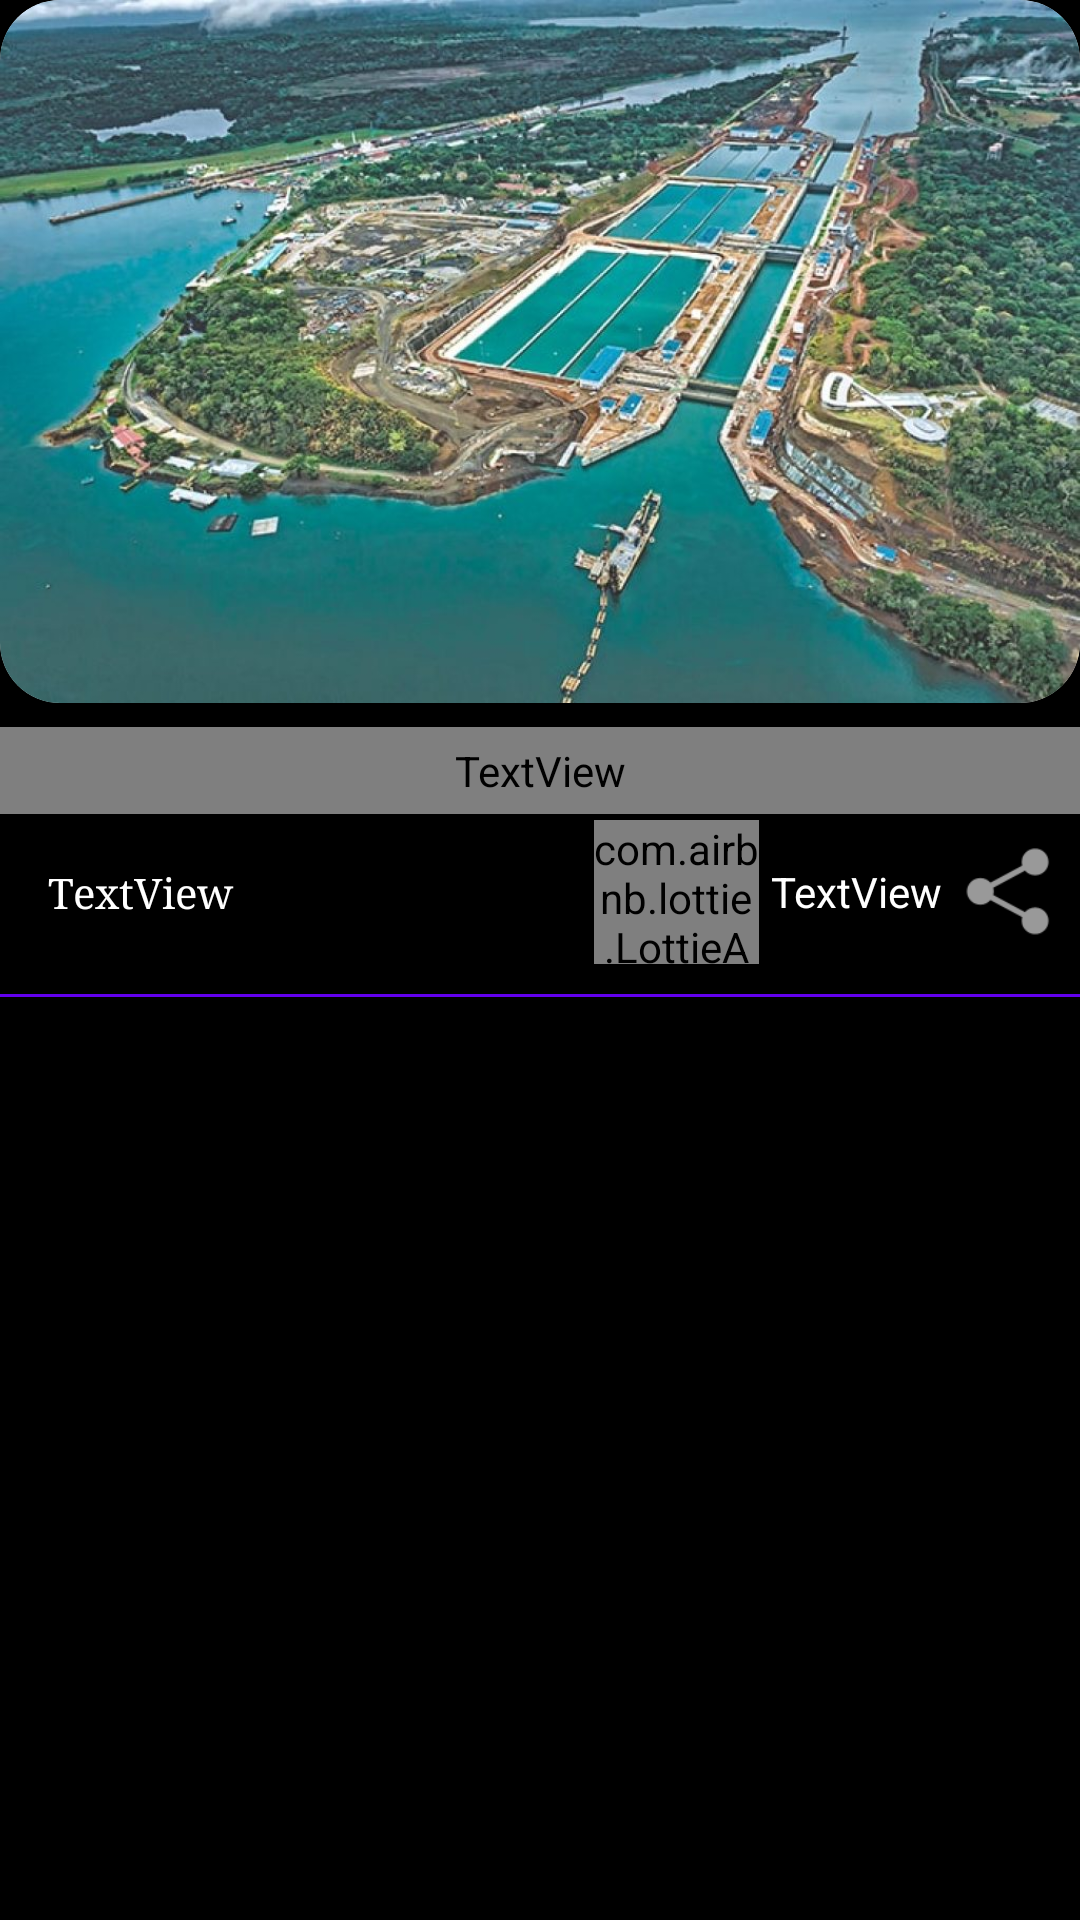

Icon click points for this 1080px x 1920px phone screenshot, format (x,y):
share: (1007,891)
